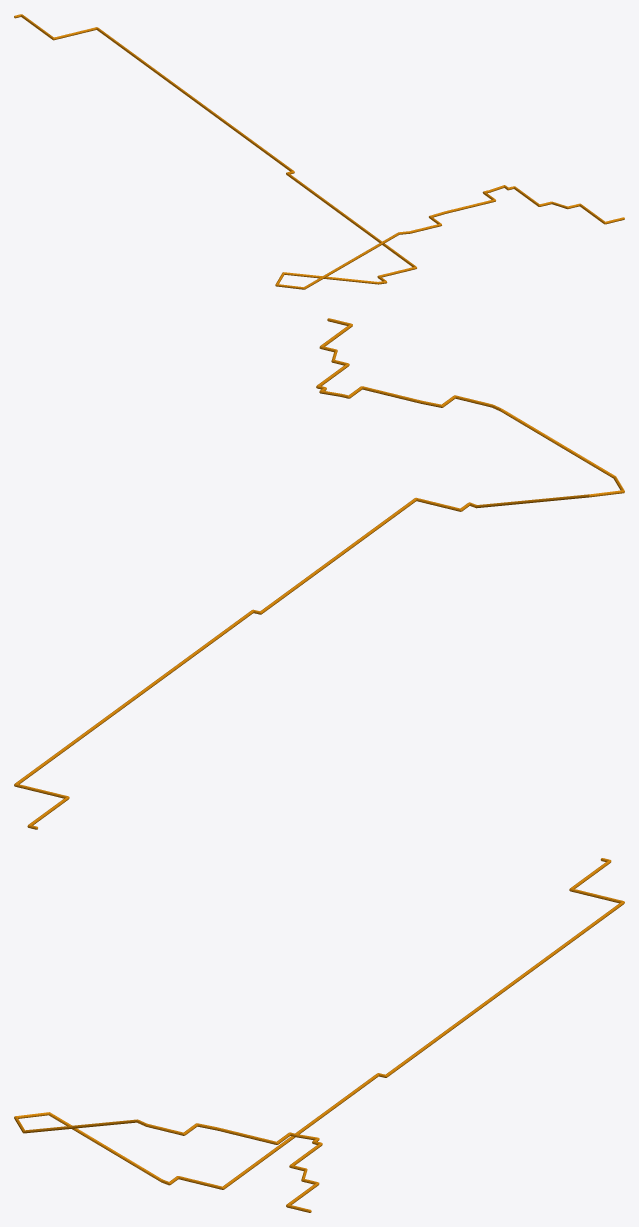
3 views of the same model, one above another, from view 1: azimuth 30°, elevation 25°; view 2: azimuth 150°, elevation 25°; view 3: azimuth 330°, elevation 25° (orthographic). The views are drawn at different scales.
Bounding box in the file's own units: 2406 × 520 × 5969.
